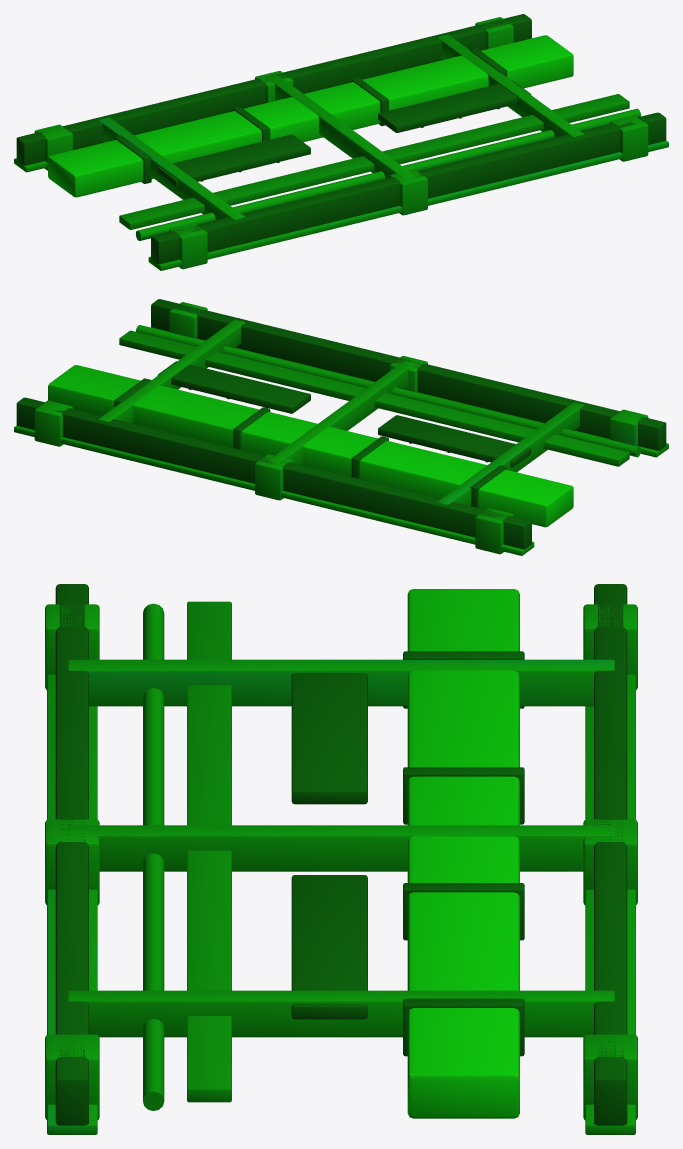
The model's file is hero_ceiling_bay_truss.glb.
3 views of the same model, one above another, from view 1: azimuth 30°, elevation 25°; view 2: azimuth 150°, elevation 25°; view 3: azimuth 270°, elevation 25° (orthographic). The views are drawn at different scales.
Parts seen in each view (by area): view 1: HeroCeilingBayTruss; view 2: HeroCeilingBayTruss; view 3: HeroCeilingBayTruss.
Boxes of the visible parts, x1,y1,x2,y2 form: HeroCeilingBayTruss: (14,14,668,270); HeroCeilingBayTruss: (14,299,668,555); HeroCeilingBayTruss: (45,584,637,1134).
Bounding box in the file's own units: 12 × 0.75 × 6.06.
